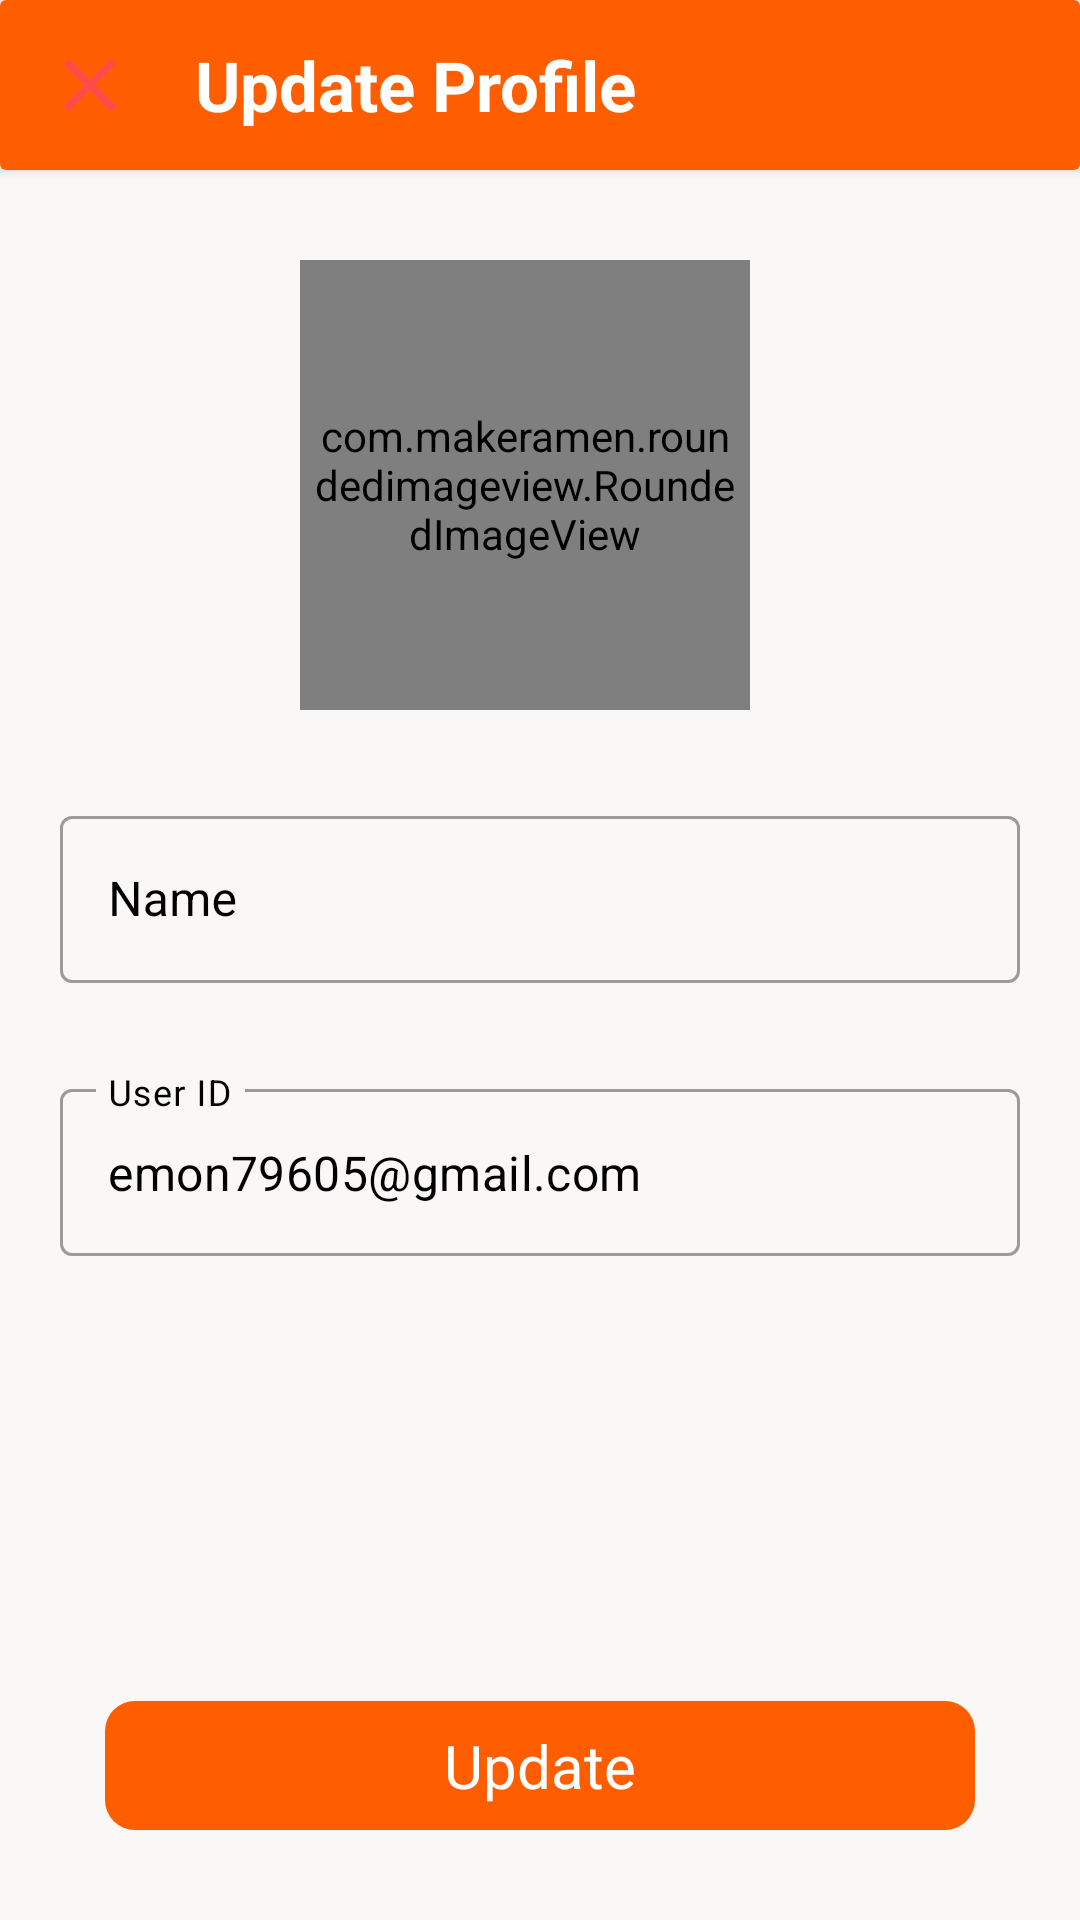

Locate icon controls on the screen. Image size 1080w x 1920h, boxes as (x1, y1, x2, y2).
close: (64, 59, 116, 111)
